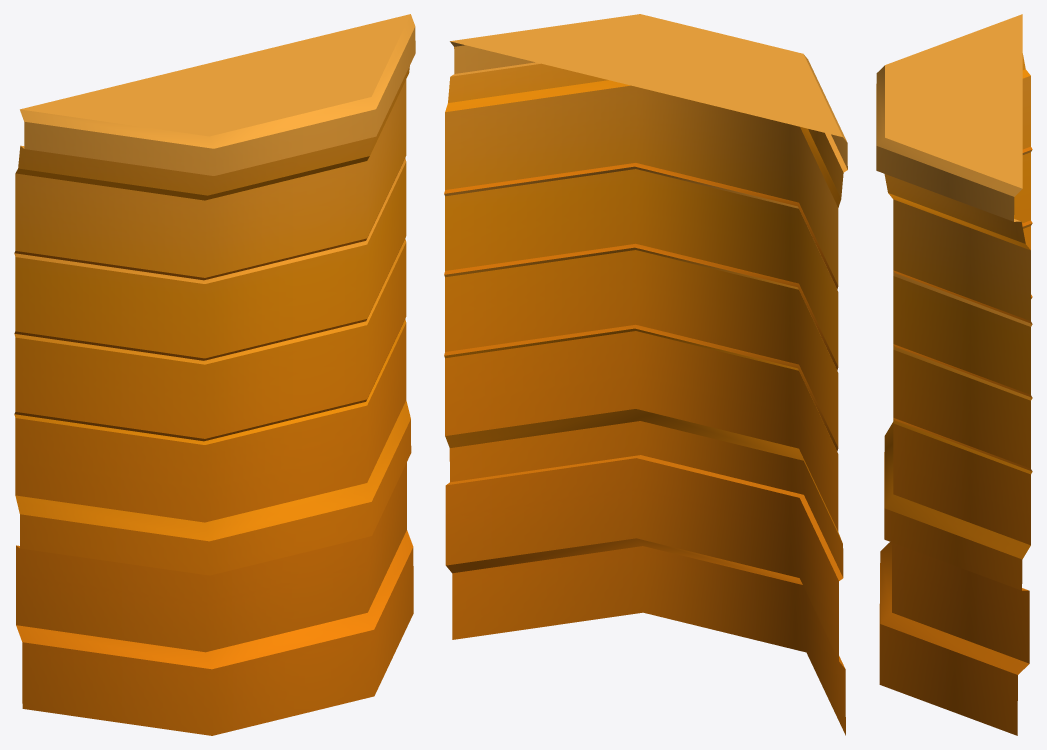
File: Pillar 02.fbx
3 views of the same model, side by side, from view 1: azimuth 30°, elevation 25°; view 2: azimuth 150°, elevation 25°; view 3: azimuth 270°, elevation 25° (orthographic). The views are drawn at different scales.
Visible parts, largest first — view 1: Pillar 02; view 2: Pillar 02; view 3: Pillar 02.
Boxes of the visible parts, x1,y1,x2,y2 form: Pillar 02: (14, 14, 415, 735); Pillar 02: (444, 14, 847, 735); Pillar 02: (876, 14, 1032, 735).
Size of the model in its own units: 200 by 292 by 75.66.
